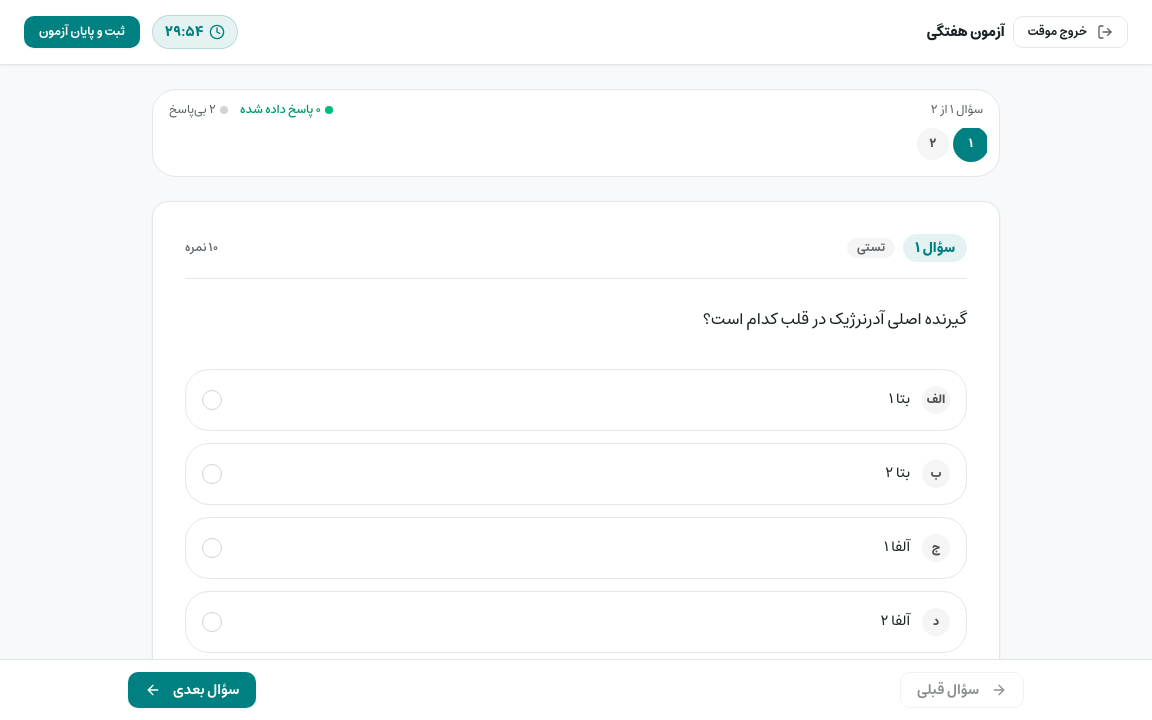
Student Teacher Platform Exam Flow — Unit & Integration Tests › Submit Safety › 5.2. Failed autosave blocks submit and displays Persian error
Select an option
Click the text "بتا ۲" at (898, 474), box [885,462,910,485]
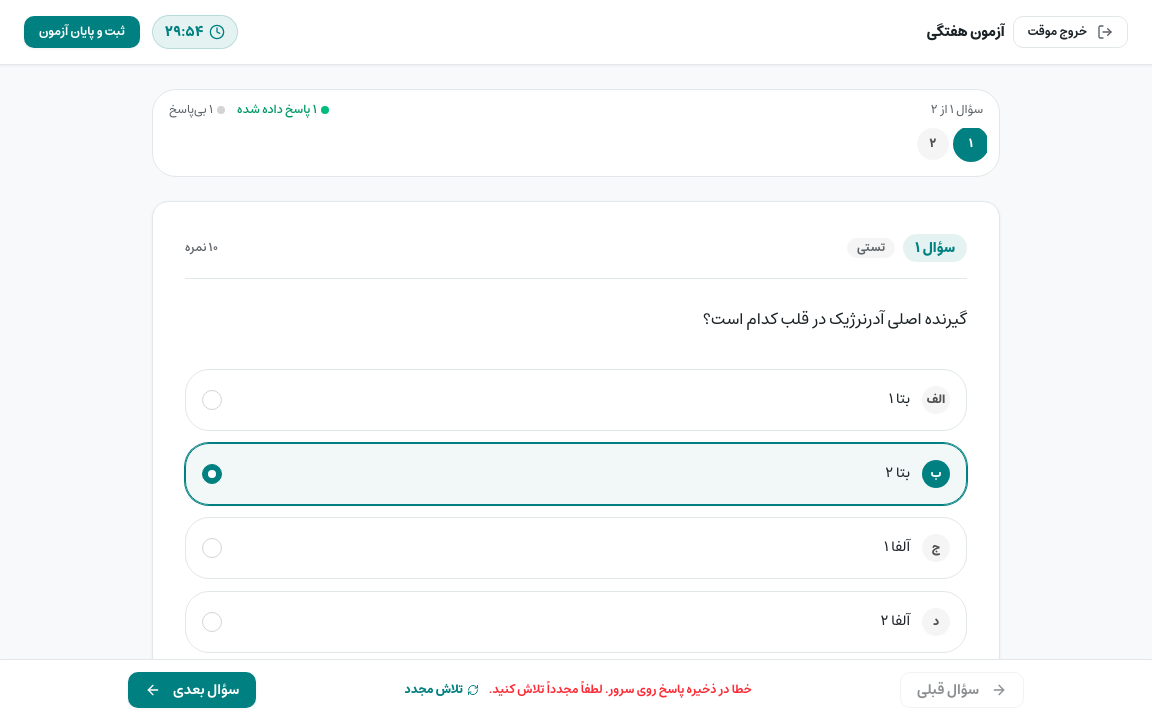
Result: the text "خطا در ذخیره پاسخ روی سرور. لطفاً مجدداً تلاش کنید." is shown at [489,682,752,698]
Open submit dialog
Click the button "ثبت و پایان آزمون" at (82, 32), box [24,16,140,48]
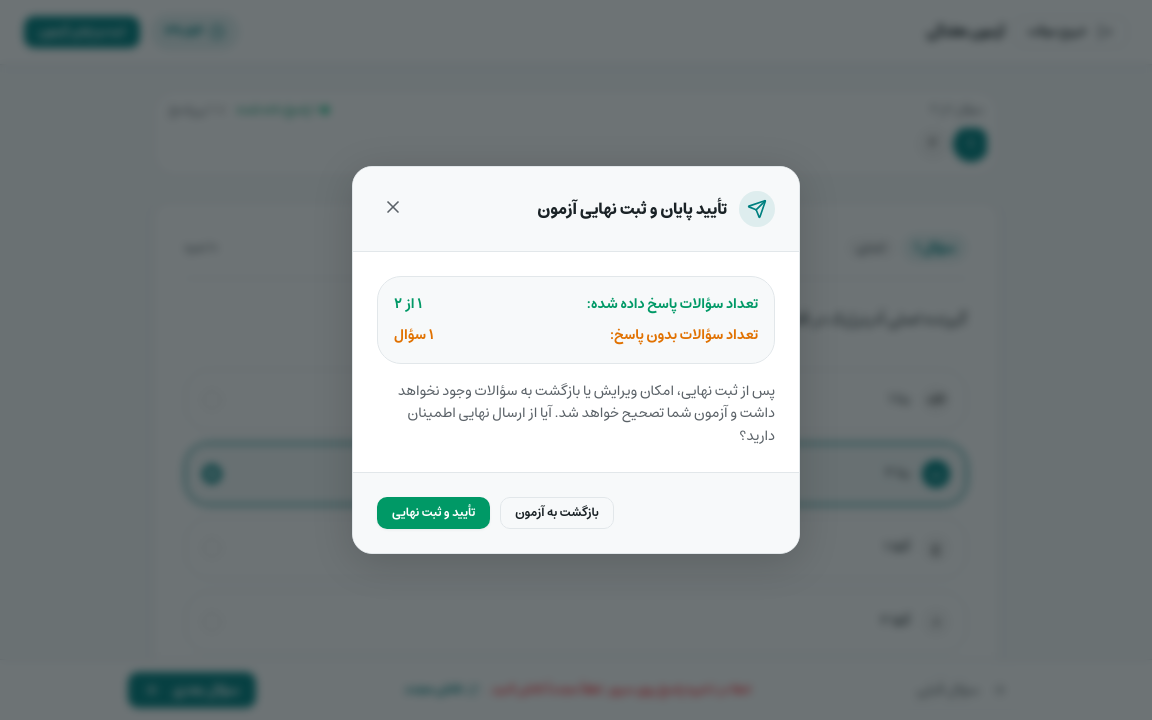
Confirm submit
Click the button "تأیید و ثبت نهایی" at (434, 513), box [377,497,490,529]
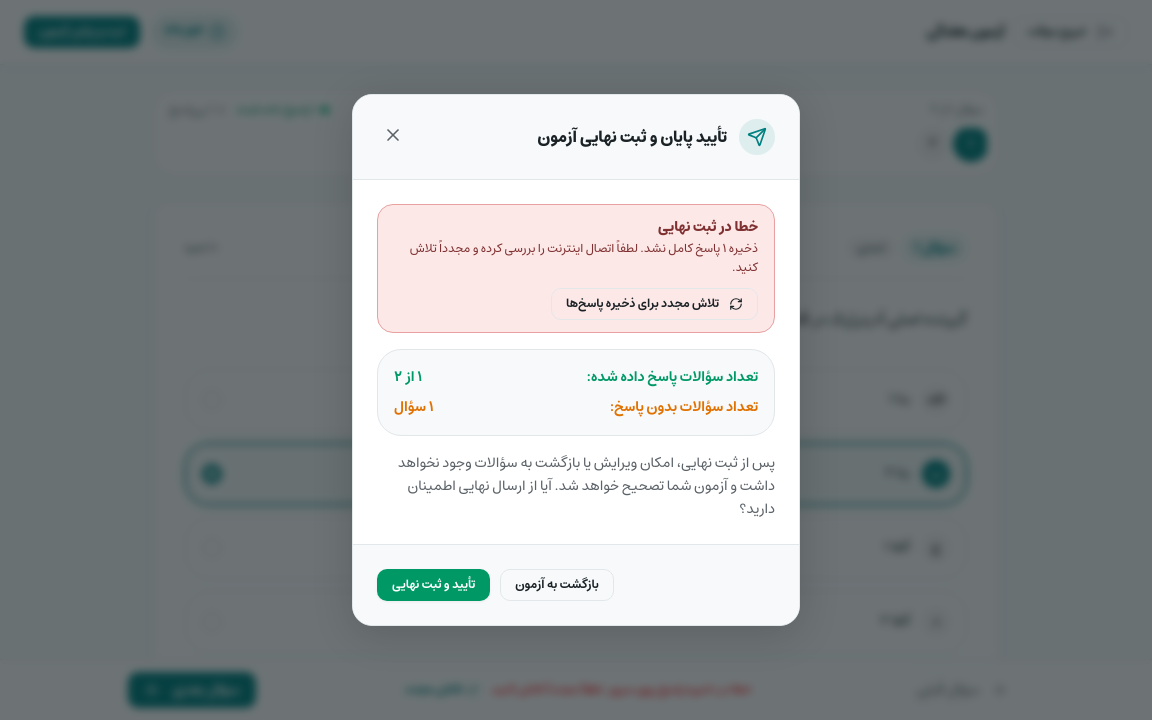
Result: the text "ذخیره ۱ پاسخ کامل نشد" is shown at [410,238,758,278]
